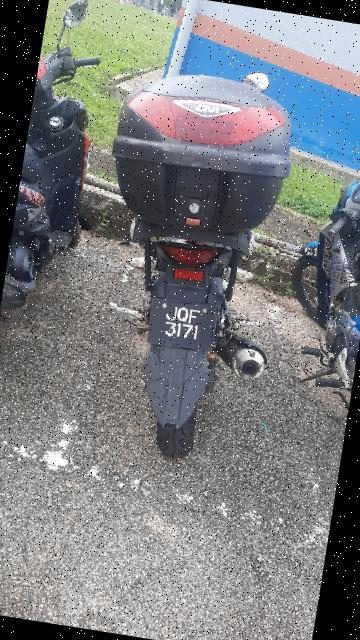License_Plate: (136, 284, 230, 366)
motorcycle: (52, 46, 321, 489)
